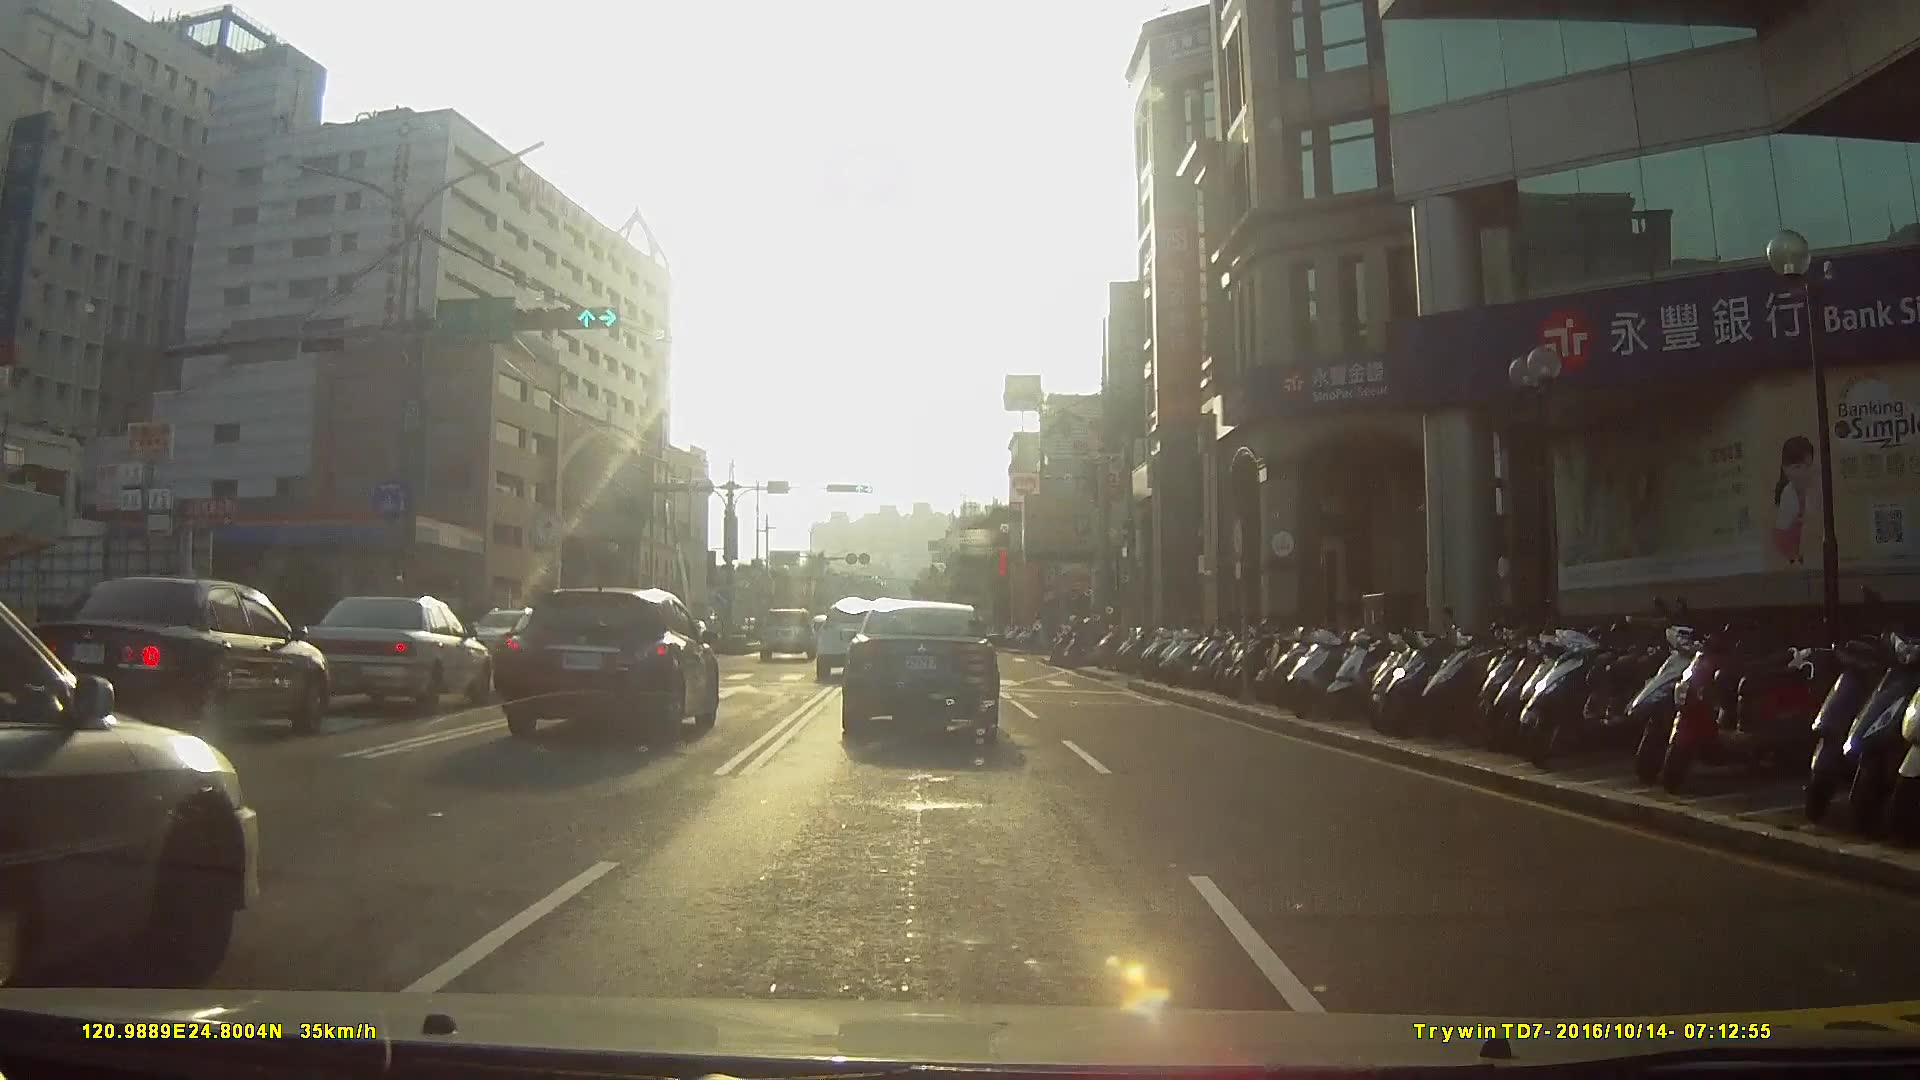rider: (1063, 620, 1113, 671)
vehicle: (1, 596, 268, 1005), (31, 572, 331, 751), (494, 587, 733, 750), (274, 593, 507, 721), (838, 601, 1018, 747), (811, 601, 890, 685), (755, 605, 814, 660)
